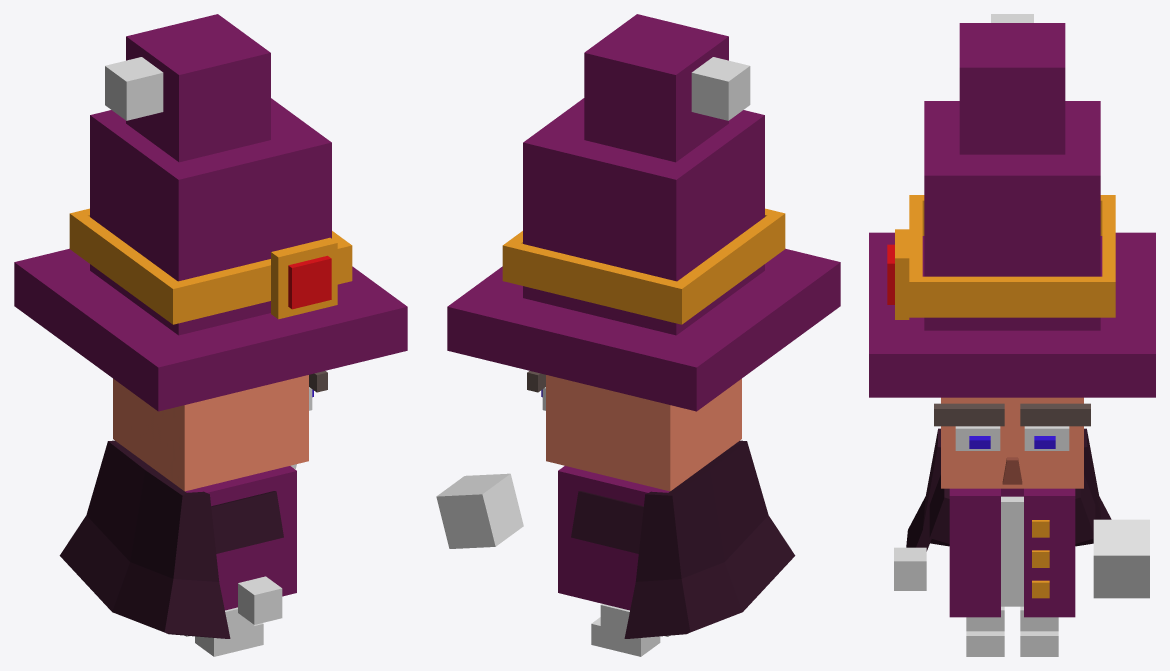
File: J_Mage_JAM_With_Torch.fbx
3 views of the same model, side by side, from view 1: azimuth 30°, elevation 25°; view 2: azimuth 150°, elevation 25°; view 3: azimuth 270°, elevation 25° (orthographic).
Parts seen in each view (by area): view 1: Cube.003; view 2: Cube.003; view 3: Cube.003.
Part boxes in pixels (x1=…): Cube.003: x1=14, y1=14, x2=407, y2=656; Cube.003: x1=436, y1=14, x2=840, y2=656; Cube.003: x1=869, y1=14, x2=1155, y2=656.
Bounding box in the file's own units: 307 × 661 × 291.
